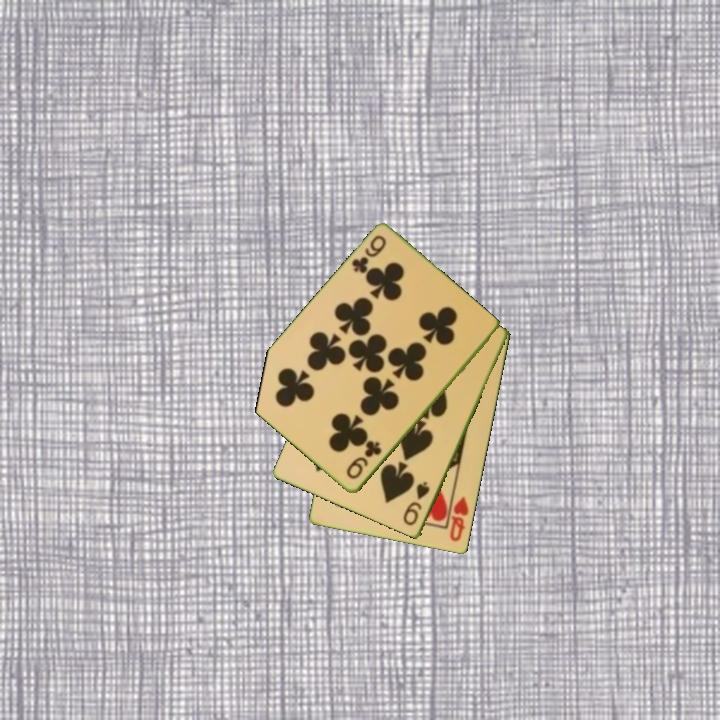9c: (343, 438, 385, 482), (348, 232, 389, 277)
9s: (400, 478, 433, 529)
Qh: (446, 493, 472, 545)
